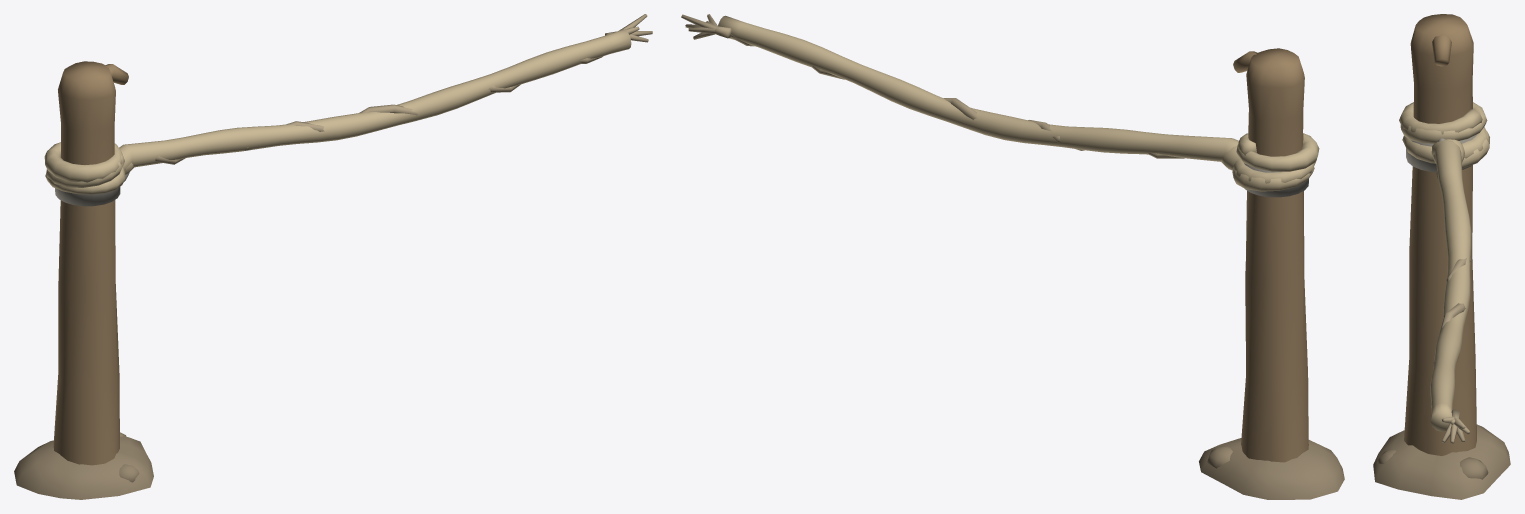
File: ferry_rope.glb
3 views of the same model, side by side, from view 1: azimuth 30°, elevation 25°; view 2: azimuth 150°, elevation 25°; view 3: azimuth 270°, elevation 25° (orthographic). The views are drawn at different scales.
Parts seen in each view (by area): view 1: Ferry_PostAssembly, Ferry_Rope, Ferry_HitchWrap; view 2: Ferry_PostAssembly, Ferry_Rope, Ferry_HitchWrap; view 3: Ferry_PostAssembly, Ferry_Rope, Ferry_HitchWrap, Ferry_Hardware.
Boxes of the visible parts, left/top/right/bottom form: Ferry_PostAssembly: left=14, top=61, right=153, bottom=499; Ferry_Rope: left=119, top=14, right=652, bottom=174; Ferry_HitchWrap: left=44, top=142, right=125, bottom=194; Ferry_PostAssembly: left=1199, top=48, right=1344, bottom=499; Ferry_Rope: left=681, top=14, right=1240, bottom=170; Ferry_HitchWrap: left=1232, top=133, right=1319, bottom=191; Ferry_PostAssembly: left=1373, top=14, right=1510, bottom=499; Ferry_Rope: left=1430, top=139, right=1471, bottom=443; Ferry_HitchWrap: left=1399, top=102, right=1489, bottom=168; Ferry_Hardware: left=1432, top=34, right=1451, bottom=141.
Size of the model in its own units: 2.42 by 1.47 by 0.414.
